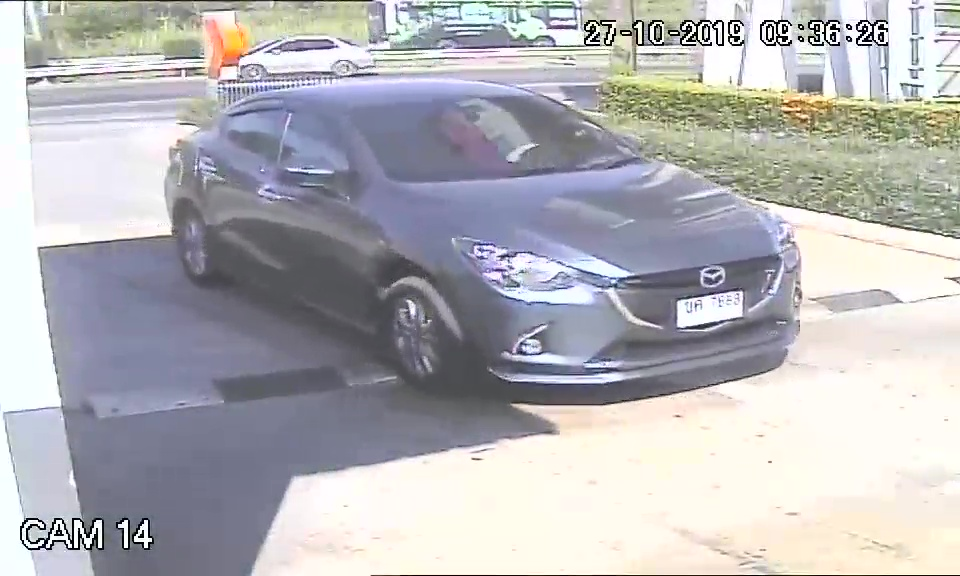sedan: (161, 83, 804, 404)
